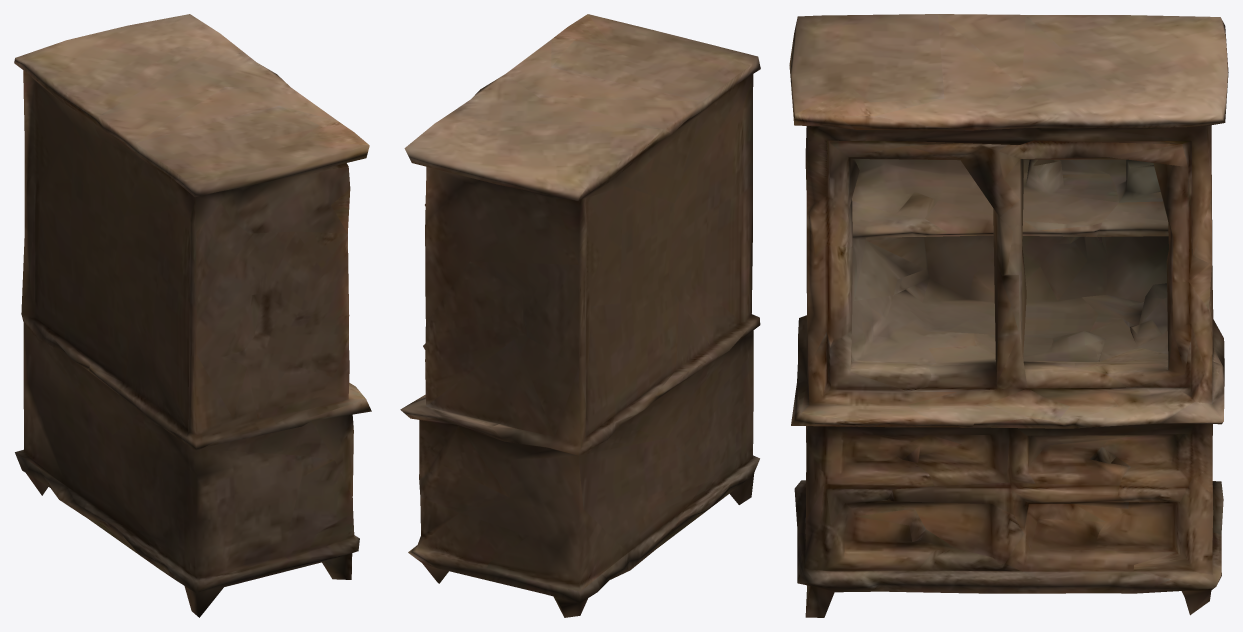
The model's file is e_buffet.glb.
3 views of the same model, side by side, from view 1: azimuth 30°, elevation 25°; view 2: azimuth 150°, elevation 25°; view 3: azimuth 270°, elevation 25° (orthographic). The views are drawn at different scales.
Parts seen in each view (by area): view 1: tripo_node_ddcf02f9-38a9-44b9-9abe-635a3c7ca845; view 2: tripo_node_ddcf02f9-38a9-44b9-9abe-635a3c7ca845; view 3: tripo_node_ddcf02f9-38a9-44b9-9abe-635a3c7ca845.
Boxes of the visible parts, x1=… form: tripo_node_ddcf02f9-38a9-44b9-9abe-635a3c7ca845: x1=14, y1=14, x2=371, y2=617; tripo_node_ddcf02f9-38a9-44b9-9abe-635a3c7ca845: x1=400, y1=14, x2=760, y2=617; tripo_node_ddcf02f9-38a9-44b9-9abe-635a3c7ca845: x1=789, y1=14, x2=1228, y2=617.
Size of the model in its own units: 0.4534 by 1 by 0.7728.
1 material, 1 textured.
